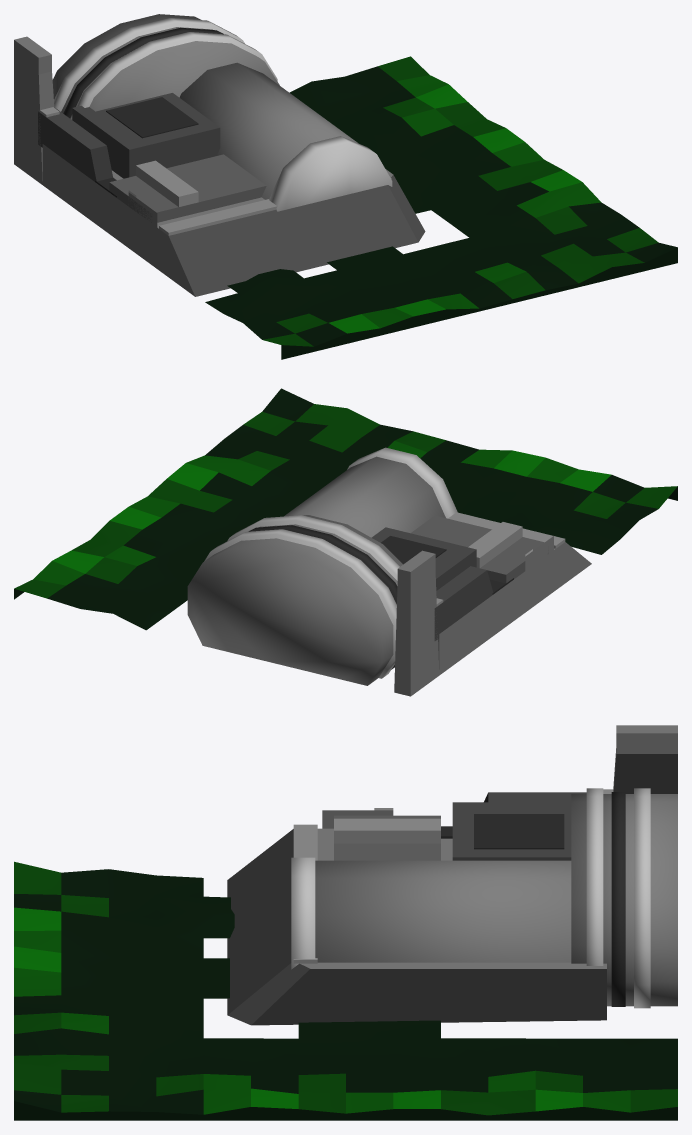
File: newshj-45.glb
The picture shows the model from 3 angles, top to bottom: view 1: azimuth 30°, elevation 25°; view 2: azimuth 150°, elevation 25°; view 3: azimuth 270°, elevation 25°; orthographic projection. The views are drawn at different scales.
Parts seen in each view (by area): view 1: newshj-45; view 2: newshj-45; view 3: newshj-45.
Boxes of the visible parts, x1,y1,x2,y2 form: newshj-45: (14, 14, 677, 359); newshj-45: (14, 388, 677, 696); newshj-45: (14, 725, 677, 1120).
Bounding box in the file's own units: 2 × 0.6 × 2.33.
